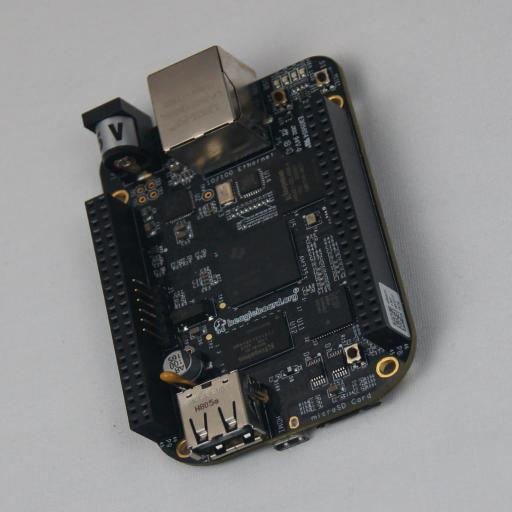Beaglebone Black: (82, 46, 419, 466)
